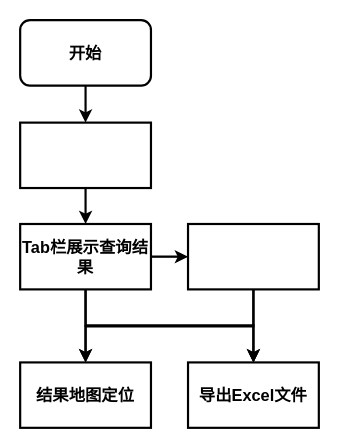
This 338x447 diagram has some shape labels left out. Each missing label, with the box of its shape:
二次过滤: (186, 222, 319, 290)
接收查询结果数据: (19, 121, 152, 189)
